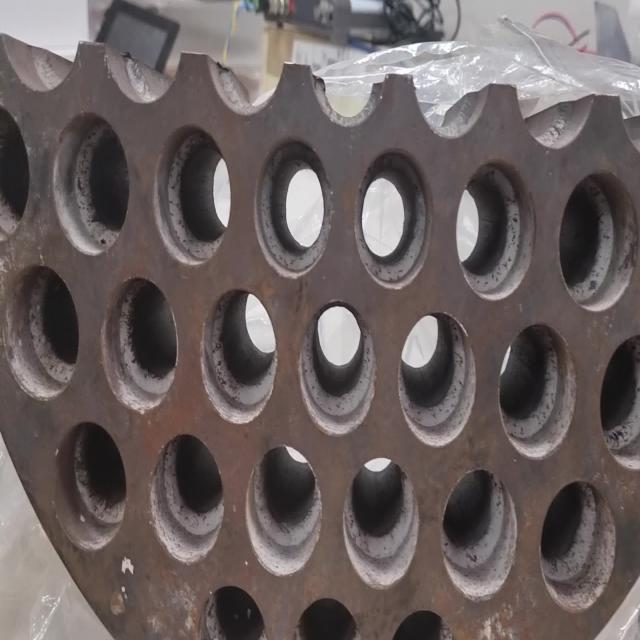Hole: (152, 122, 232, 267), (455, 157, 536, 300), (558, 170, 639, 312), (254, 136, 334, 279), (52, 111, 129, 256), (199, 286, 278, 426), (297, 299, 377, 437), (498, 322, 577, 460), (397, 310, 476, 448), (440, 465, 519, 602), (1, 263, 79, 401), (101, 275, 178, 413), (356, 147, 430, 290), (245, 442, 322, 578), (342, 456, 420, 590), (539, 479, 617, 613), (149, 432, 225, 564), (54, 418, 128, 552), (600, 332, 640, 471), (0, 101, 29, 241), (197, 583, 268, 640), (292, 594, 364, 640), (381, 608, 461, 640)
